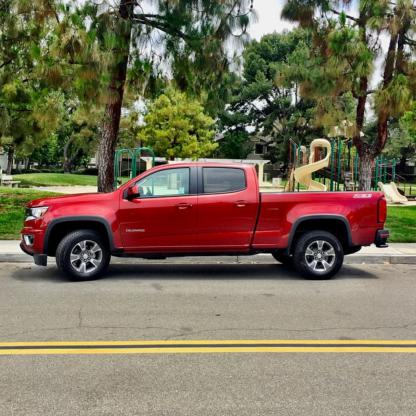Truck: (19, 152, 390, 281)
